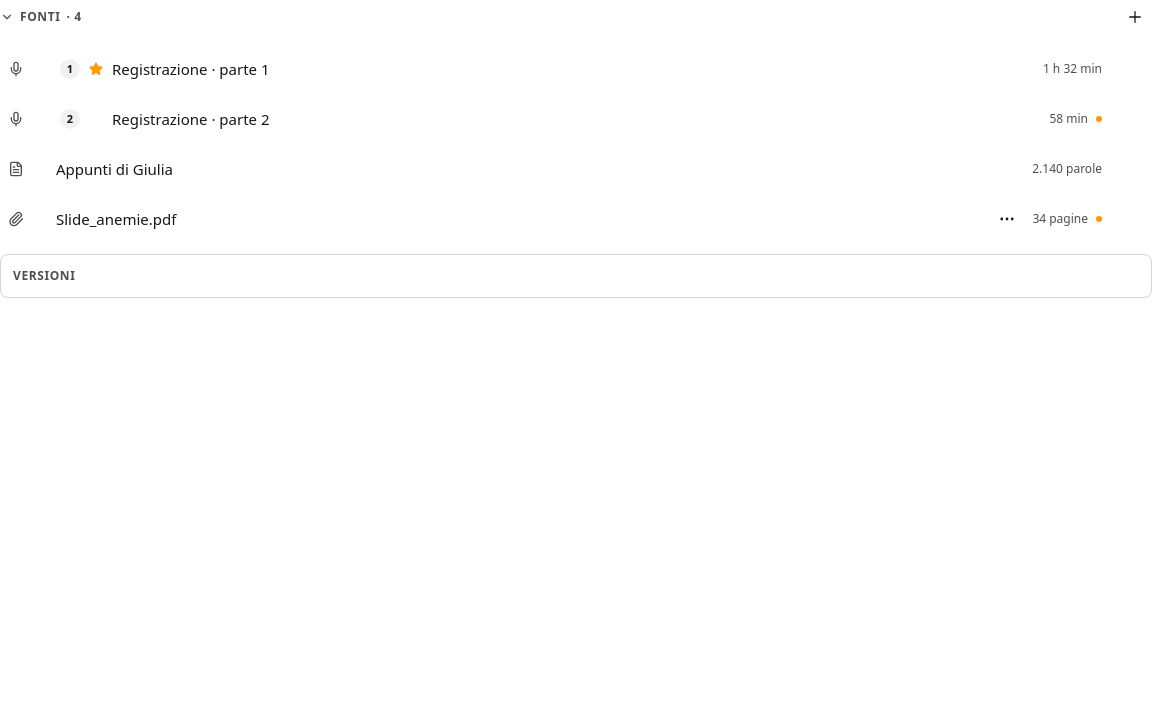
Test case: SourcesSection (Wireframe RT-fonti-materie scena 2) › Aggiungi fonte apre un menu in un portale; Appunti apre il popup
This screenshot has width=1152, height=720.
Expected: the text "Appunti di Giulia" is shown, [56,159,173,179]
Click the button named "Aggiungi fonte".
click(1135, 17)  # box [1118,0,1151,34]
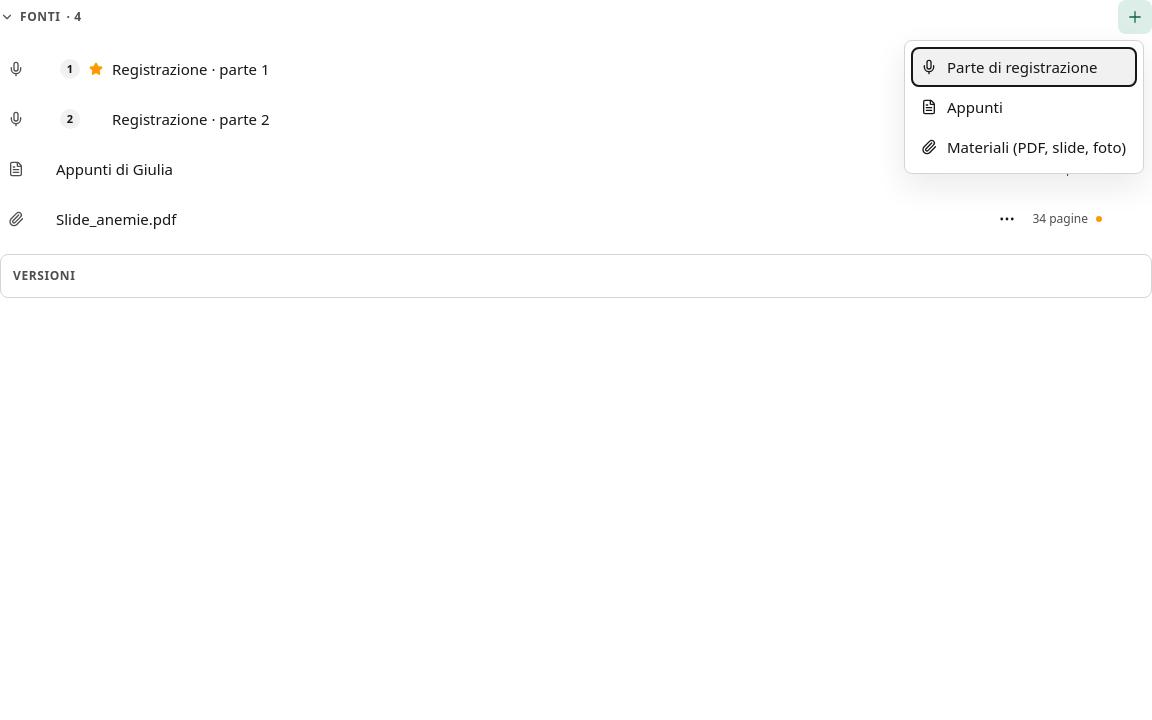
Click the menu item "Appunti".
click(1024, 107)  # box [911,87,1137,127]
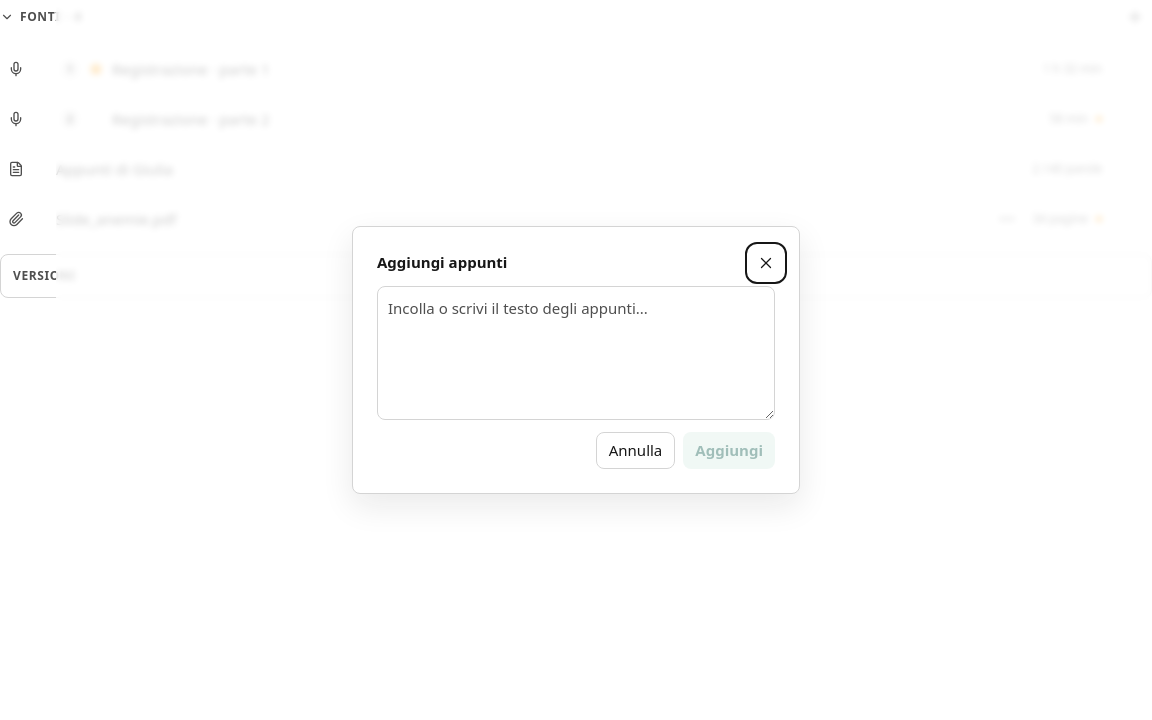
Expected: the text box with placeholder "Incolla o scrivi il testo degli appunti..." is shown, [377,286,775,420]
Click the button "Annulla".
click(636, 451)  # box [596,432,675,469]
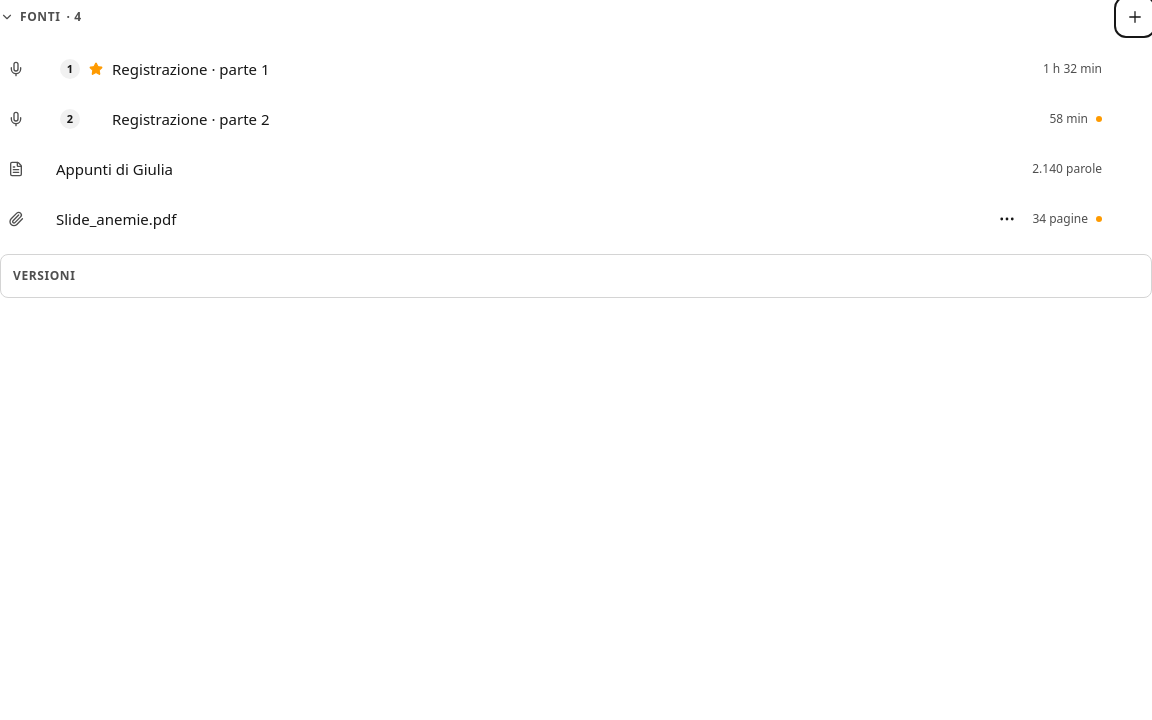
Expected: the heading "Aggiungi appunti" is gone
